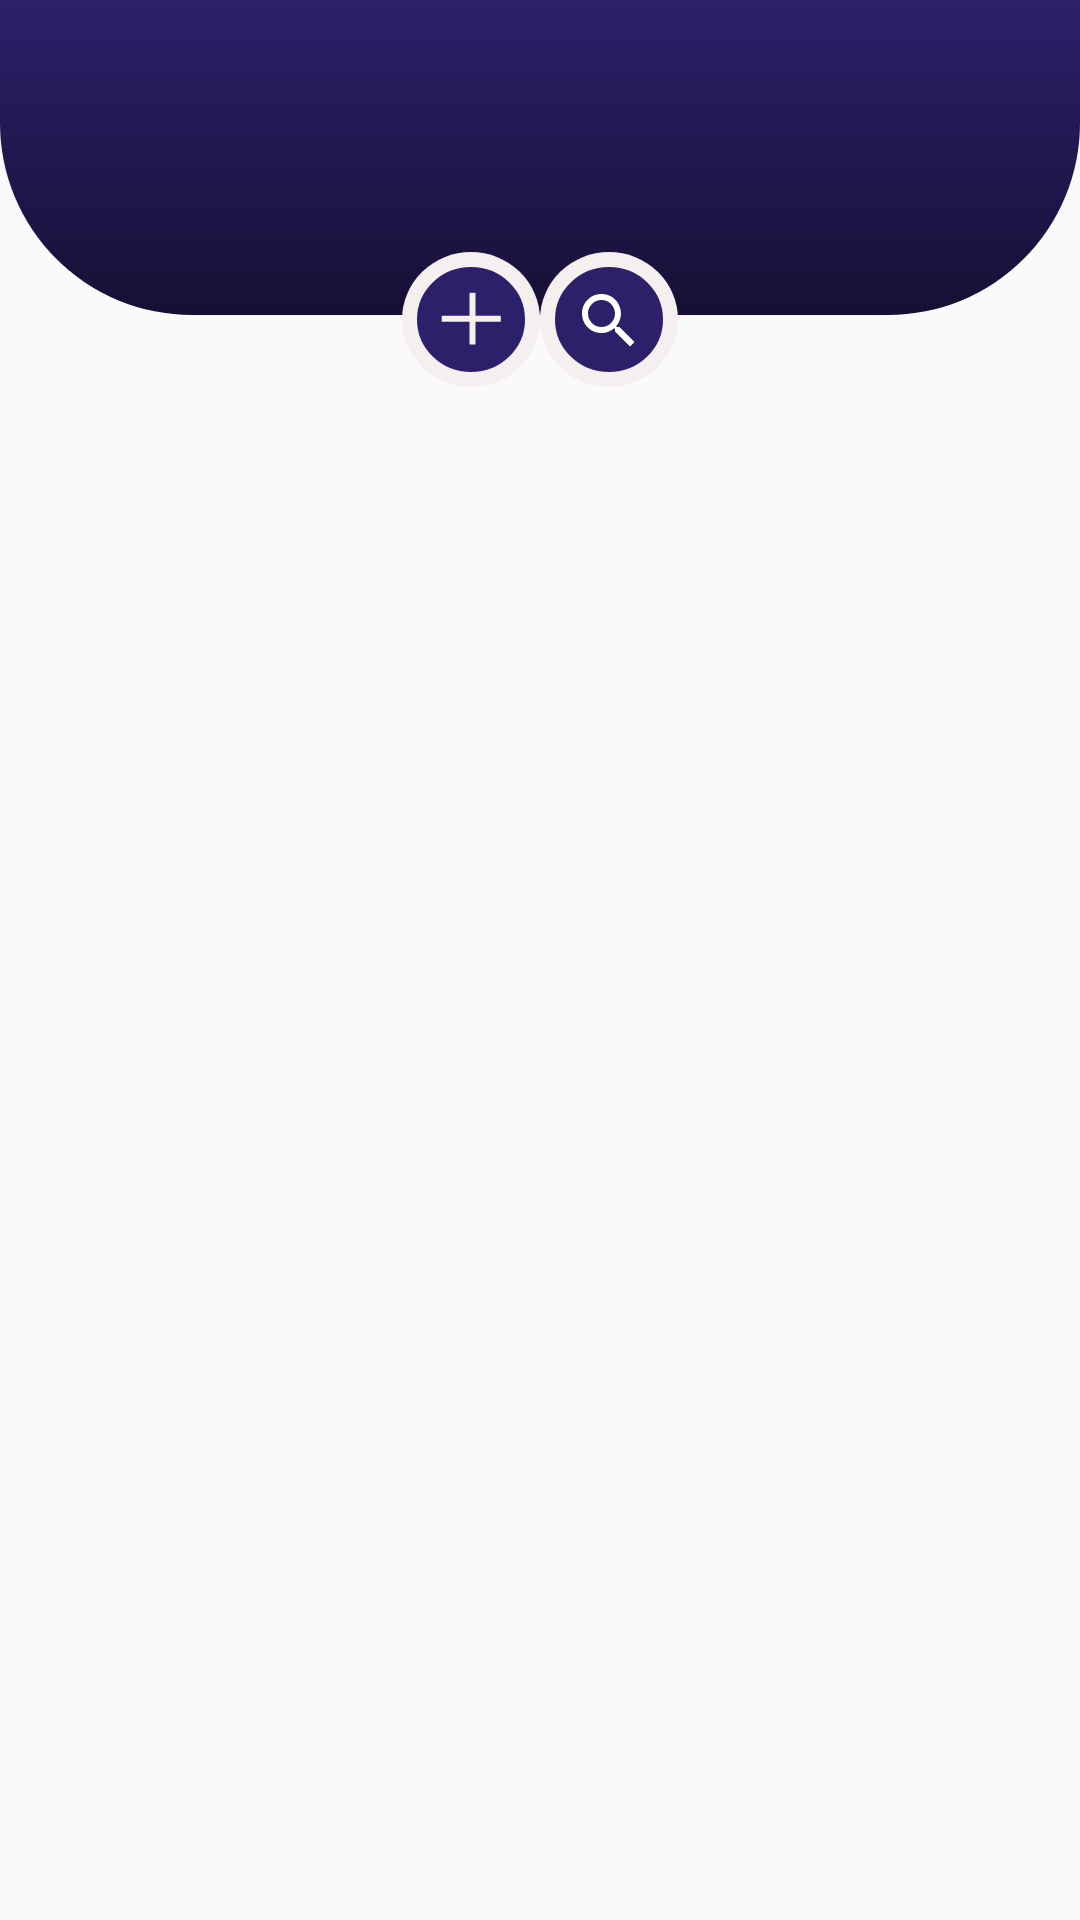

Icon click points for this 1080w x 1920h phone screenshot, format [x,y]:
add: [471,319]
search: [609,319]
